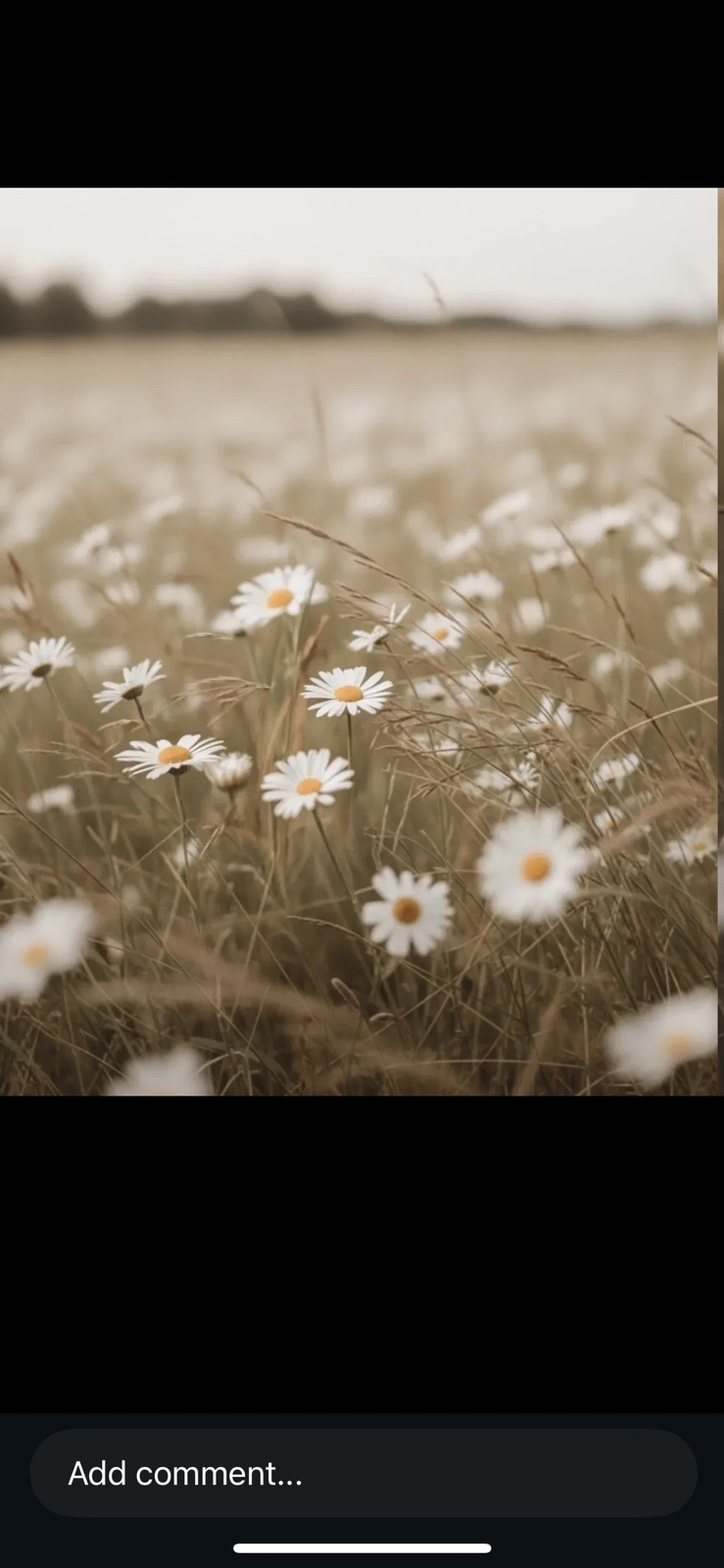daisy: (471, 814, 599, 932), (111, 726, 230, 795), (254, 747, 356, 825), (375, 874, 454, 964), (300, 658, 396, 732), (0, 637, 78, 706), (97, 655, 164, 719), (242, 578, 320, 631), (409, 617, 465, 661)
